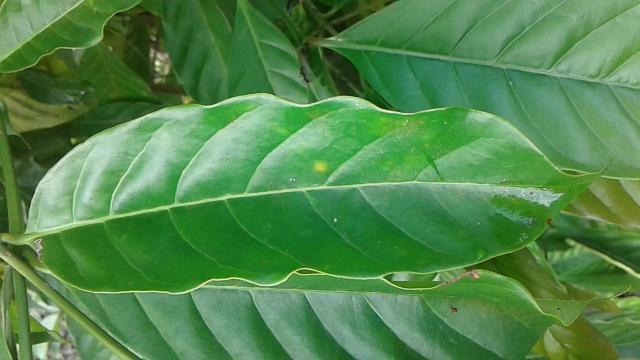rust_level_1: (22, 90, 628, 294)
